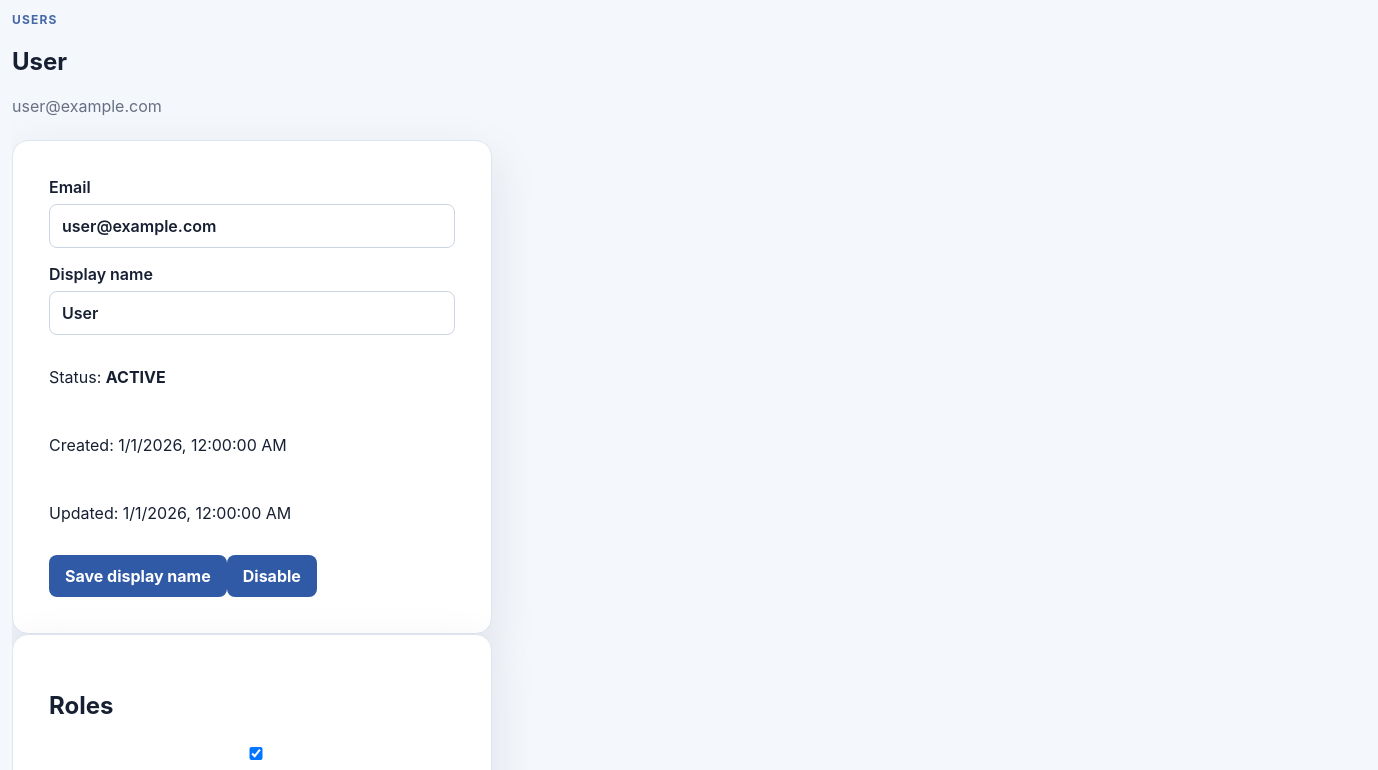
Test: user pages › renders detail controls and displays the last-admin server error
The image size is (1378, 770).
Click the button "Disable" at (272, 576), box [227, 555, 317, 597]
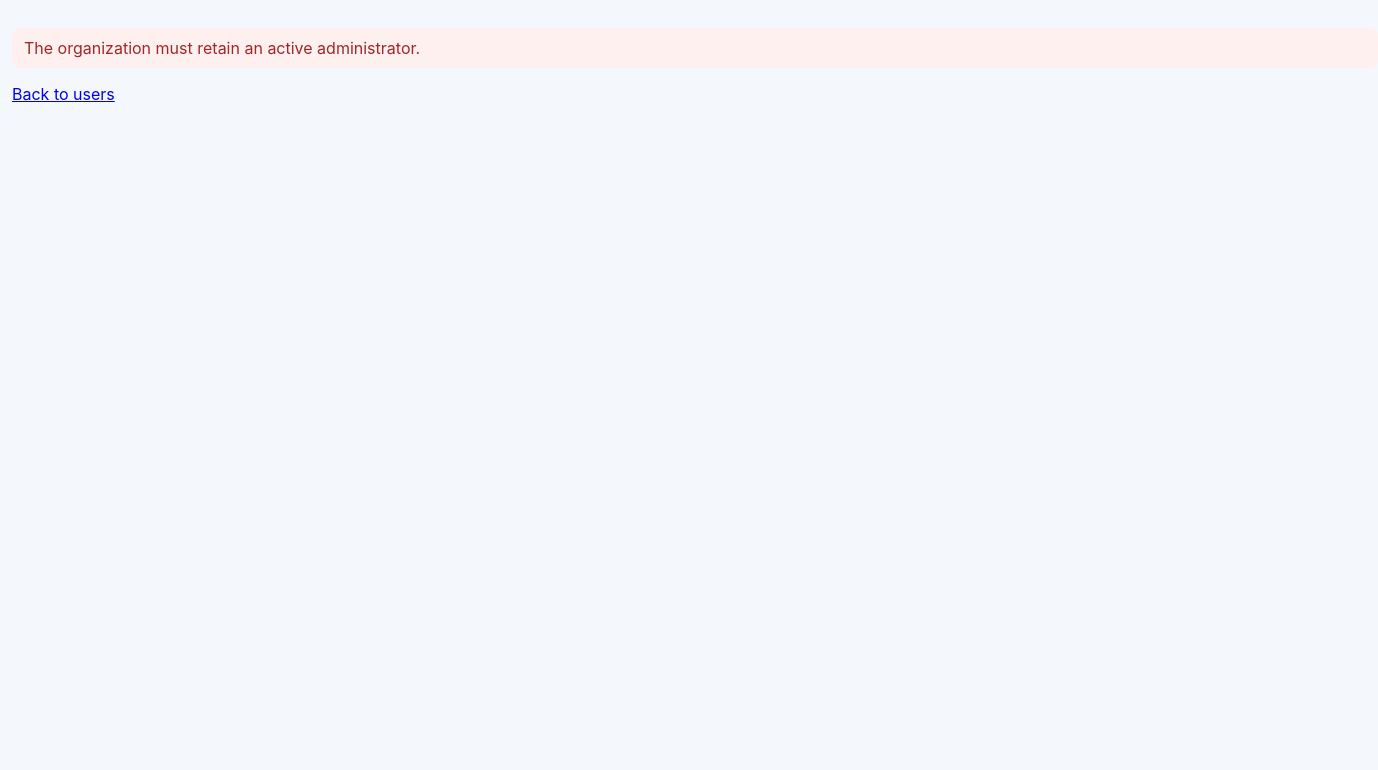
Check: the text "The organization must retain an active administrator." is shown, box [12, 28, 1377, 68]
